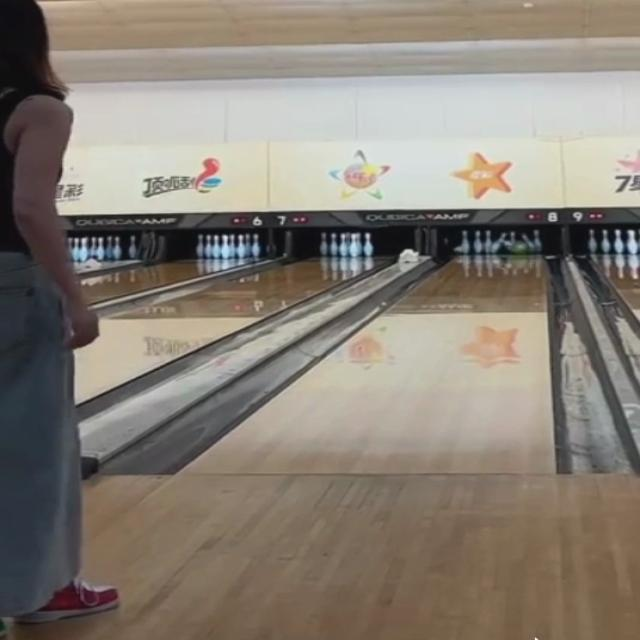alley: (182, 256, 554, 473)
balls: (507, 239, 530, 253)
bottle: (454, 229, 541, 255)
